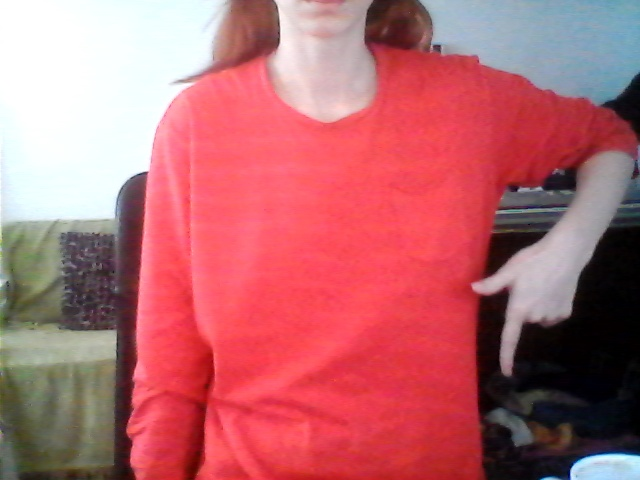policia: (466, 258, 582, 386)
